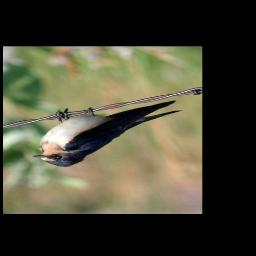Swallow: (31, 97, 183, 169)
